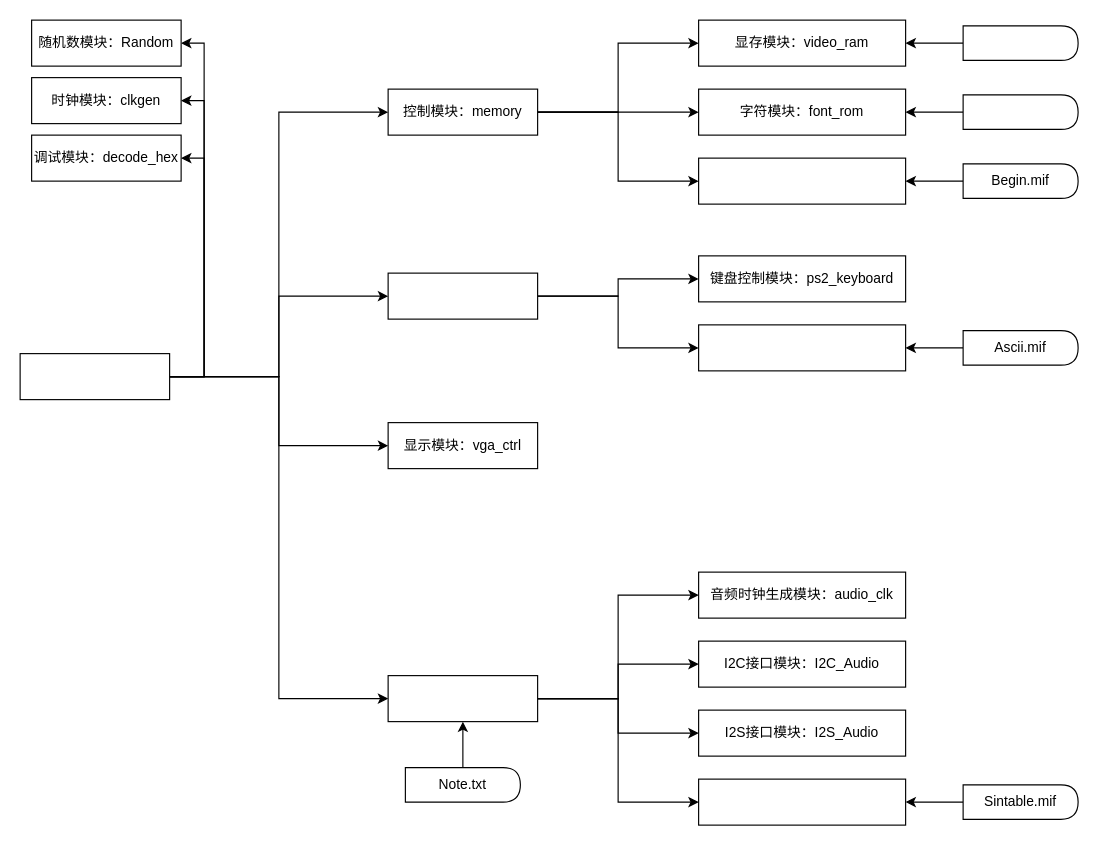
The diagram is 1098 pixels wide and 845 high, and some of its shapes have lost their labels. The box of each missing label's shape, as (x1, y1, x2, y2) in pixels:
ASCII码转化模块：toASCII: (697, 324, 906, 371)
Vga_font.mif: (962, 94, 1078, 129)
Video_ram.mif: (962, 25, 1078, 60)
主模块：Type: (19, 352, 170, 400)
开始界面模块：begin_rom: (697, 157, 906, 204)
波形生成模块：Sin_Generator: (697, 778, 906, 825)
键盘模块：keyboard: (387, 272, 538, 319)
音频模块：bgm: (387, 674, 538, 722)
